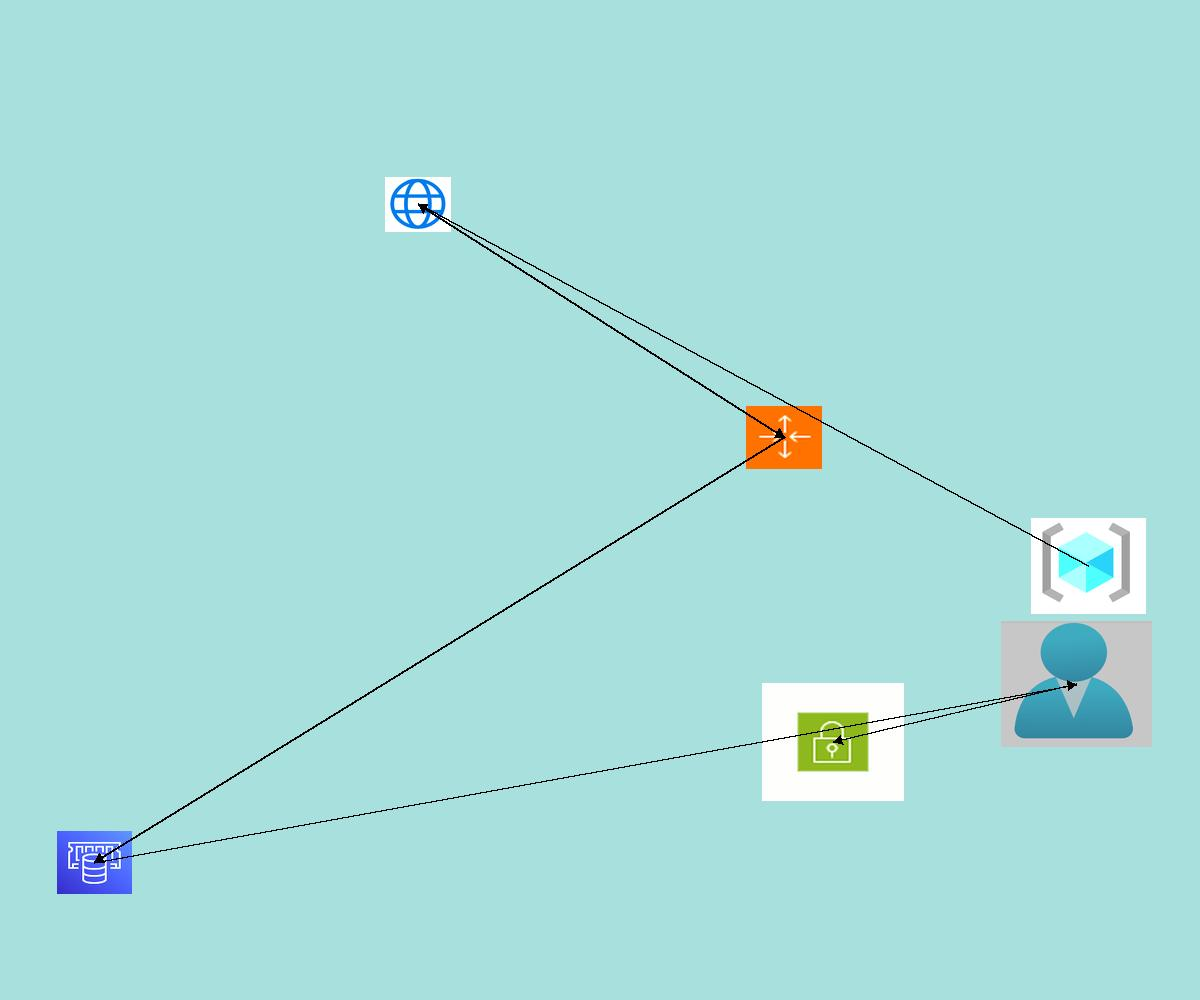AWS-ElastiCache: (57, 831, 132, 894)
AWS-Public-subnet: (762, 683, 904, 801)
AWS-Scaling-group: (746, 406, 822, 469)
Azure_http: (385, 177, 451, 232)
Azure_resource_group: (1031, 518, 1146, 614)
Azure_users: (1001, 621, 1152, 747)
